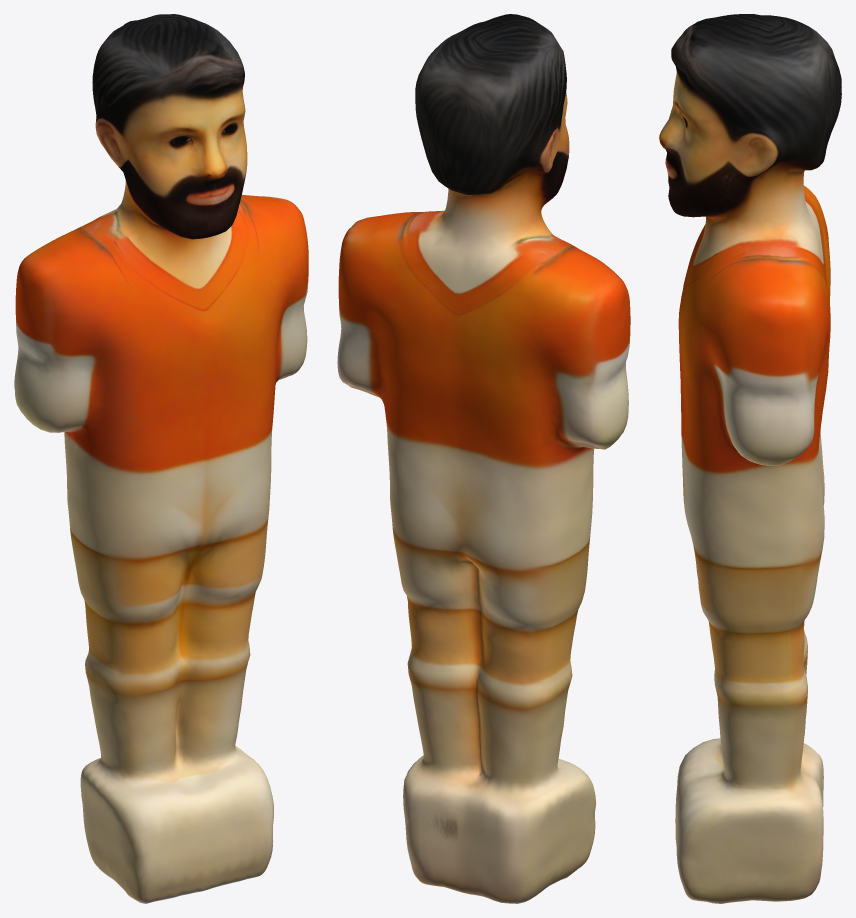
The model's file is Foosball_Figure_0822144042_texture.fbx.
The picture shows the model from 3 angles, left to right: view 1: azimuth 30°, elevation 25°; view 2: azimuth 150°, elevation 25°; view 3: azimuth 270°, elevation 25°; orthographic projection.
Visible parts, largest first — view 1: Mesh1.0; view 2: Mesh1.0; view 3: Mesh1.0.
Boxes of the visible parts, x1,y1,x2,y2 form: Mesh1.0: (14,14,308,903); Mesh1.0: (337,14,630,903); Mesh1.0: (659,14,841,903).
Size of the model in its own units: 67.51 by 199 by 38.53.
1 material, 1 textured.
